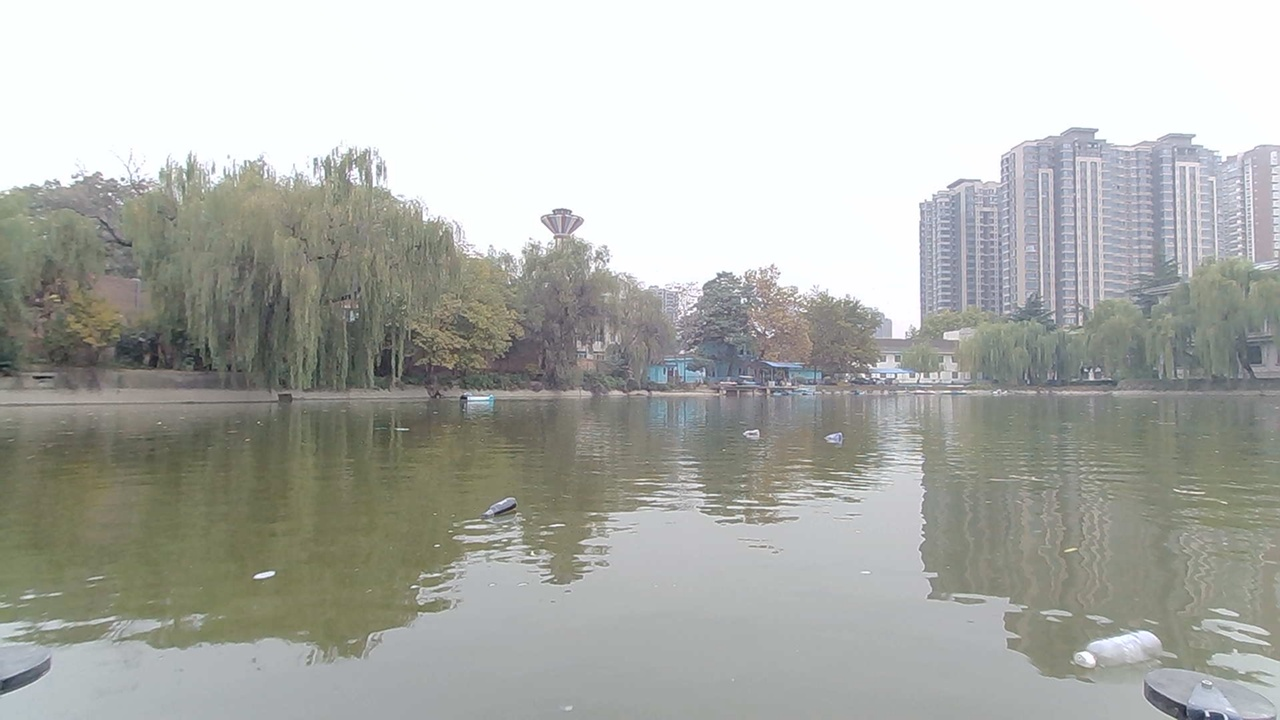bottle: (1064, 601, 1188, 677), (739, 415, 769, 446), (488, 501, 518, 523), (816, 429, 849, 446)
